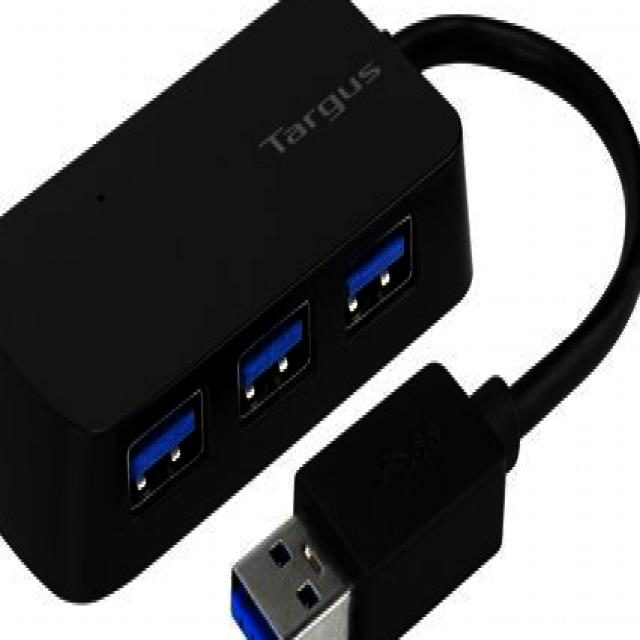usb port: (116, 389, 213, 493), (231, 323, 311, 401), (340, 234, 416, 308)
